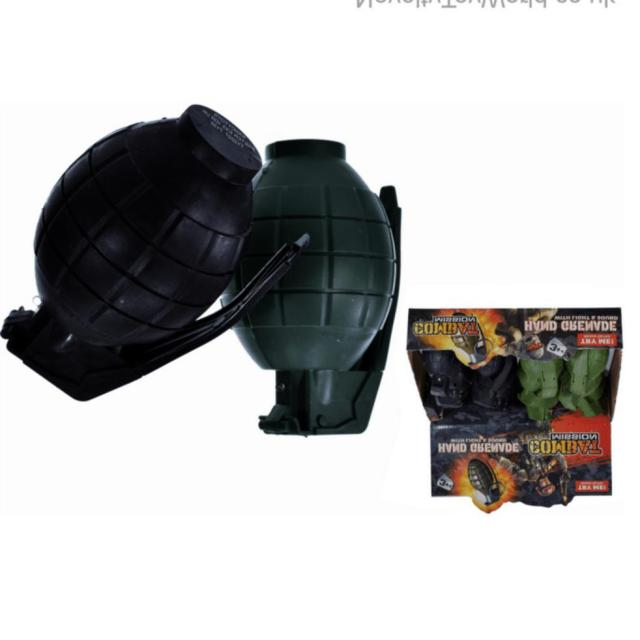grenade: (1, 108, 322, 404), (237, 125, 405, 437), (451, 312, 492, 366), (468, 458, 506, 514)
